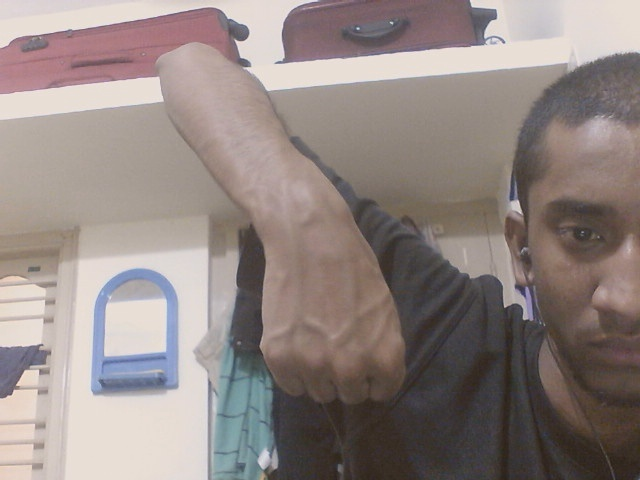hand: (255, 226, 412, 407)
